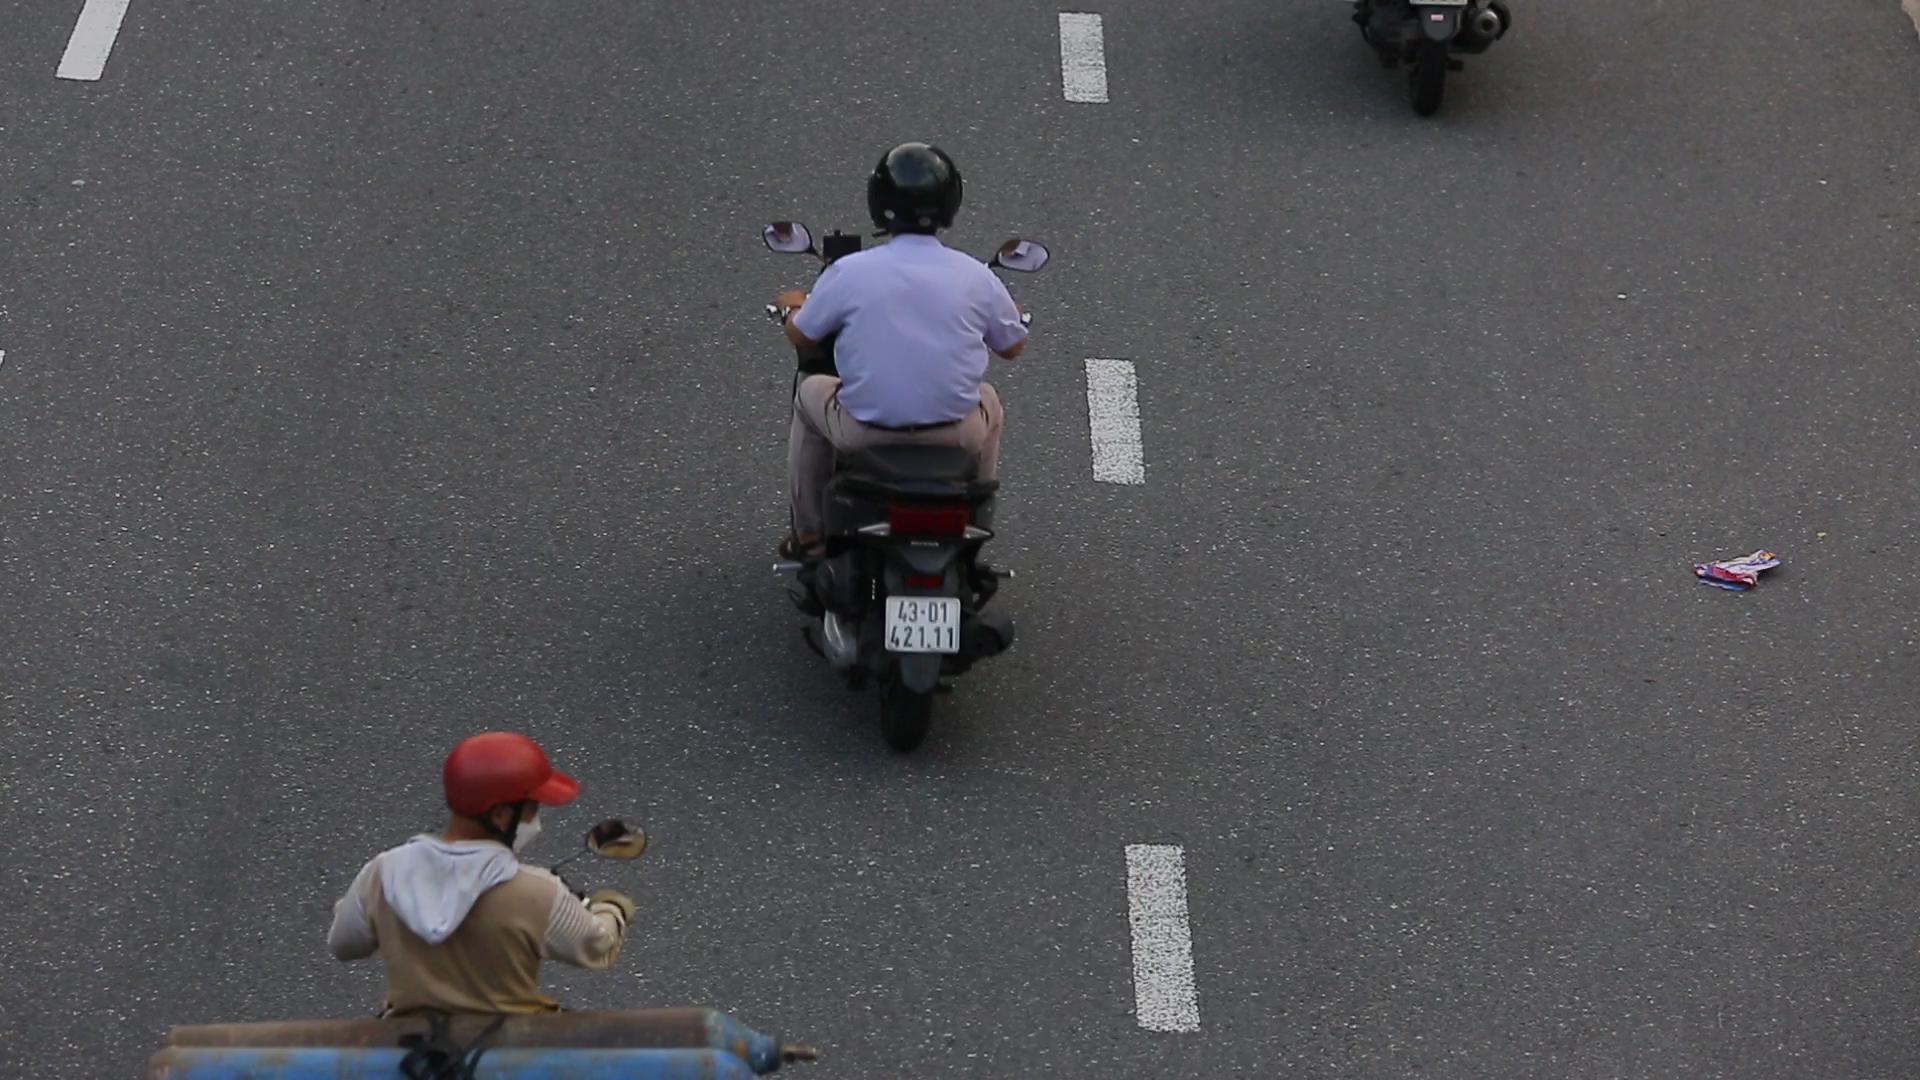motobike: (720, 111, 1097, 803)
